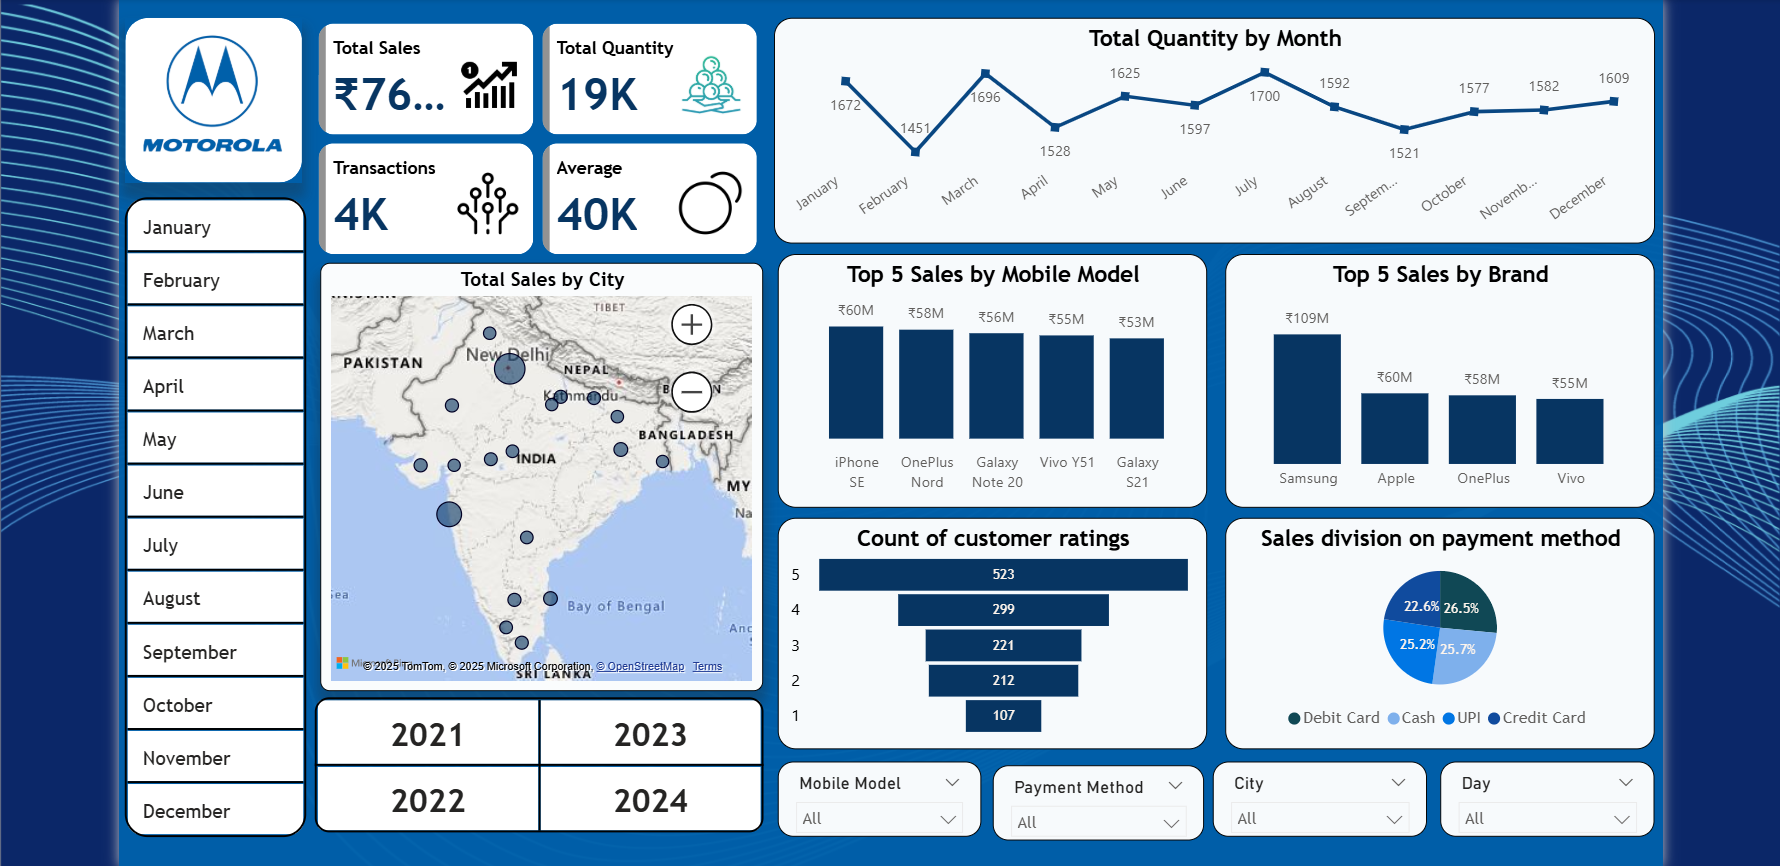

The dashboard page shown, as its layout file describes it:
{"tool":"powerbi","page":{"name":"Page 1","canvas":[1280,720],"ordinal":0},"visuals":[{"type":"shape","box":[5.6,15.1,146.7,136.7],"z":0},{"type":"image","box":[15.6,21.8,125.6,125.6],"z":1000},{"type":"advancedSlicerVisual","fields":{"Values":["Sales Data.Date of Purchase.Variation.Date Hierarchy.Month"]},"box":[0,160,160,544],"z":2000},{"type":"cardVisual","fields":{"Data":["Sales Data.Total Sales","Sales Data.Total Quantity","Sales Data.Total transactions","Sales Data.Average"]},"box":[160.5,15.1,374.4,201.2],"z":3000},{"type":"map","fields":{"Category":["Sales Data.City"],"Size":["Sales Data.Total Sales"]},"box":[166.9,218.5,367.4,355.4],"z":4000},{"type":"advancedSlicerVisual","fields":{"Values":["Sales Data.Date of Purchase.Variation.Date Hierarchy.Year"]},"box":[157.5,574.4,382.5,123.2],"z":5000},{"type":"lineChart","fields":{"Category":["Sales Data.Date of Purchase.Variation.Date Hierarchy.Month","Sales Data.Date of Purchase.Variation.Date Hierarchy.Day"],"Y":["Sales Data.Total Quantity"]},"box":[543,15.1,730.2,187.2],"z":6000},{"type":"clusteredColumnChart","title":"Top 5  Sales by Mobile Model","fields":{"Y":["Sales Data.Total Sales"],"Category":["Sales Data.Mobile Model"]},"box":[546.5,211.6,355.8,210.5],"z":7000},{"type":"clusteredColumnChart","title":"Top 5 Sales by Brand","fields":{"Y":["Sales Data.Total Sales"],"Category":["Sales Data.Brand"]},"box":[917.4,211.6,355.8,210.5],"z":8000},{"type":"pieChart","title":"Sales division on payment method","fields":{"Category":["Sales Data.Payment Method"],"Y":["Sales Data.Total Sales"]},"box":[917.4,430.2,355.8,191.9],"z":9000},{"type":"funnel","title":"Count of customer ratings","fields":{"Y":["CountNonNull(Sales Data.Customer Ratings)"],"Category":["Sales Data.Customer Ratings"]},"box":[546.5,430.2,355.8,191.9],"z":10000},{"type":"slicer","fields":{"Values":["Sales Data.Mobile Model"]},"box":[546.5,632.6,168.6,62.8],"z":11000},{"type":"slicer","fields":{"Values":["Sales Data.City"]},"box":[907,632.6,177.9,62.8],"z":12000},{"type":"slicer","fields":{"Values":["Sales Data.Payment Method"]},"box":[724.4,634.9,175.6,62.8],"z":13000},{"type":"slicer","fields":{"Values":["Sales Data.Day"]},"box":[1095.4,632.6,177.9,62.8],"z":14000}]}

Visuals, with their boxes in screenshot pixels (x1, y1, x2, y2):
shape: 132:18:306:180
image: 144:26:293:175
advancedSlicerVisual - Sales Data.Date of Purchase.Variation.Date Hierarchy.Month: 125:190:315:836
cardVisual - Sales Data.Total Sales x Sales Data.Total Quantity: 316:18:760:257
map - Sales Data.City x Sales Data.Total Sales: 323:259:760:681
advancedSlicerVisual - Sales Data.Date of Purchase.Variation.Date Hierarchy.Year: 312:682:766:828
lineChart - Sales Data.Date of Purchase.Variation.Date Hierarchy.Month x Sales Data.Date of Purchase.Variation.Date Hierarchy.Day: 770:18:1637:240
"Top 5  Sales by Mobile Model" clusteredColumnChart: 774:251:1196:501
"Top 5 Sales by Brand" clusteredColumnChart: 1214:251:1637:501
"Sales division on payment method" pieChart: 1214:511:1637:739
"Count of customer ratings" funnel: 774:511:1196:739
slicer - Sales Data.Mobile Model: 774:751:974:826
slicer - Sales Data.City: 1202:751:1413:826
slicer - Sales Data.Payment Method: 985:754:1194:828
slicer - Sales Data.Day: 1426:751:1637:826
